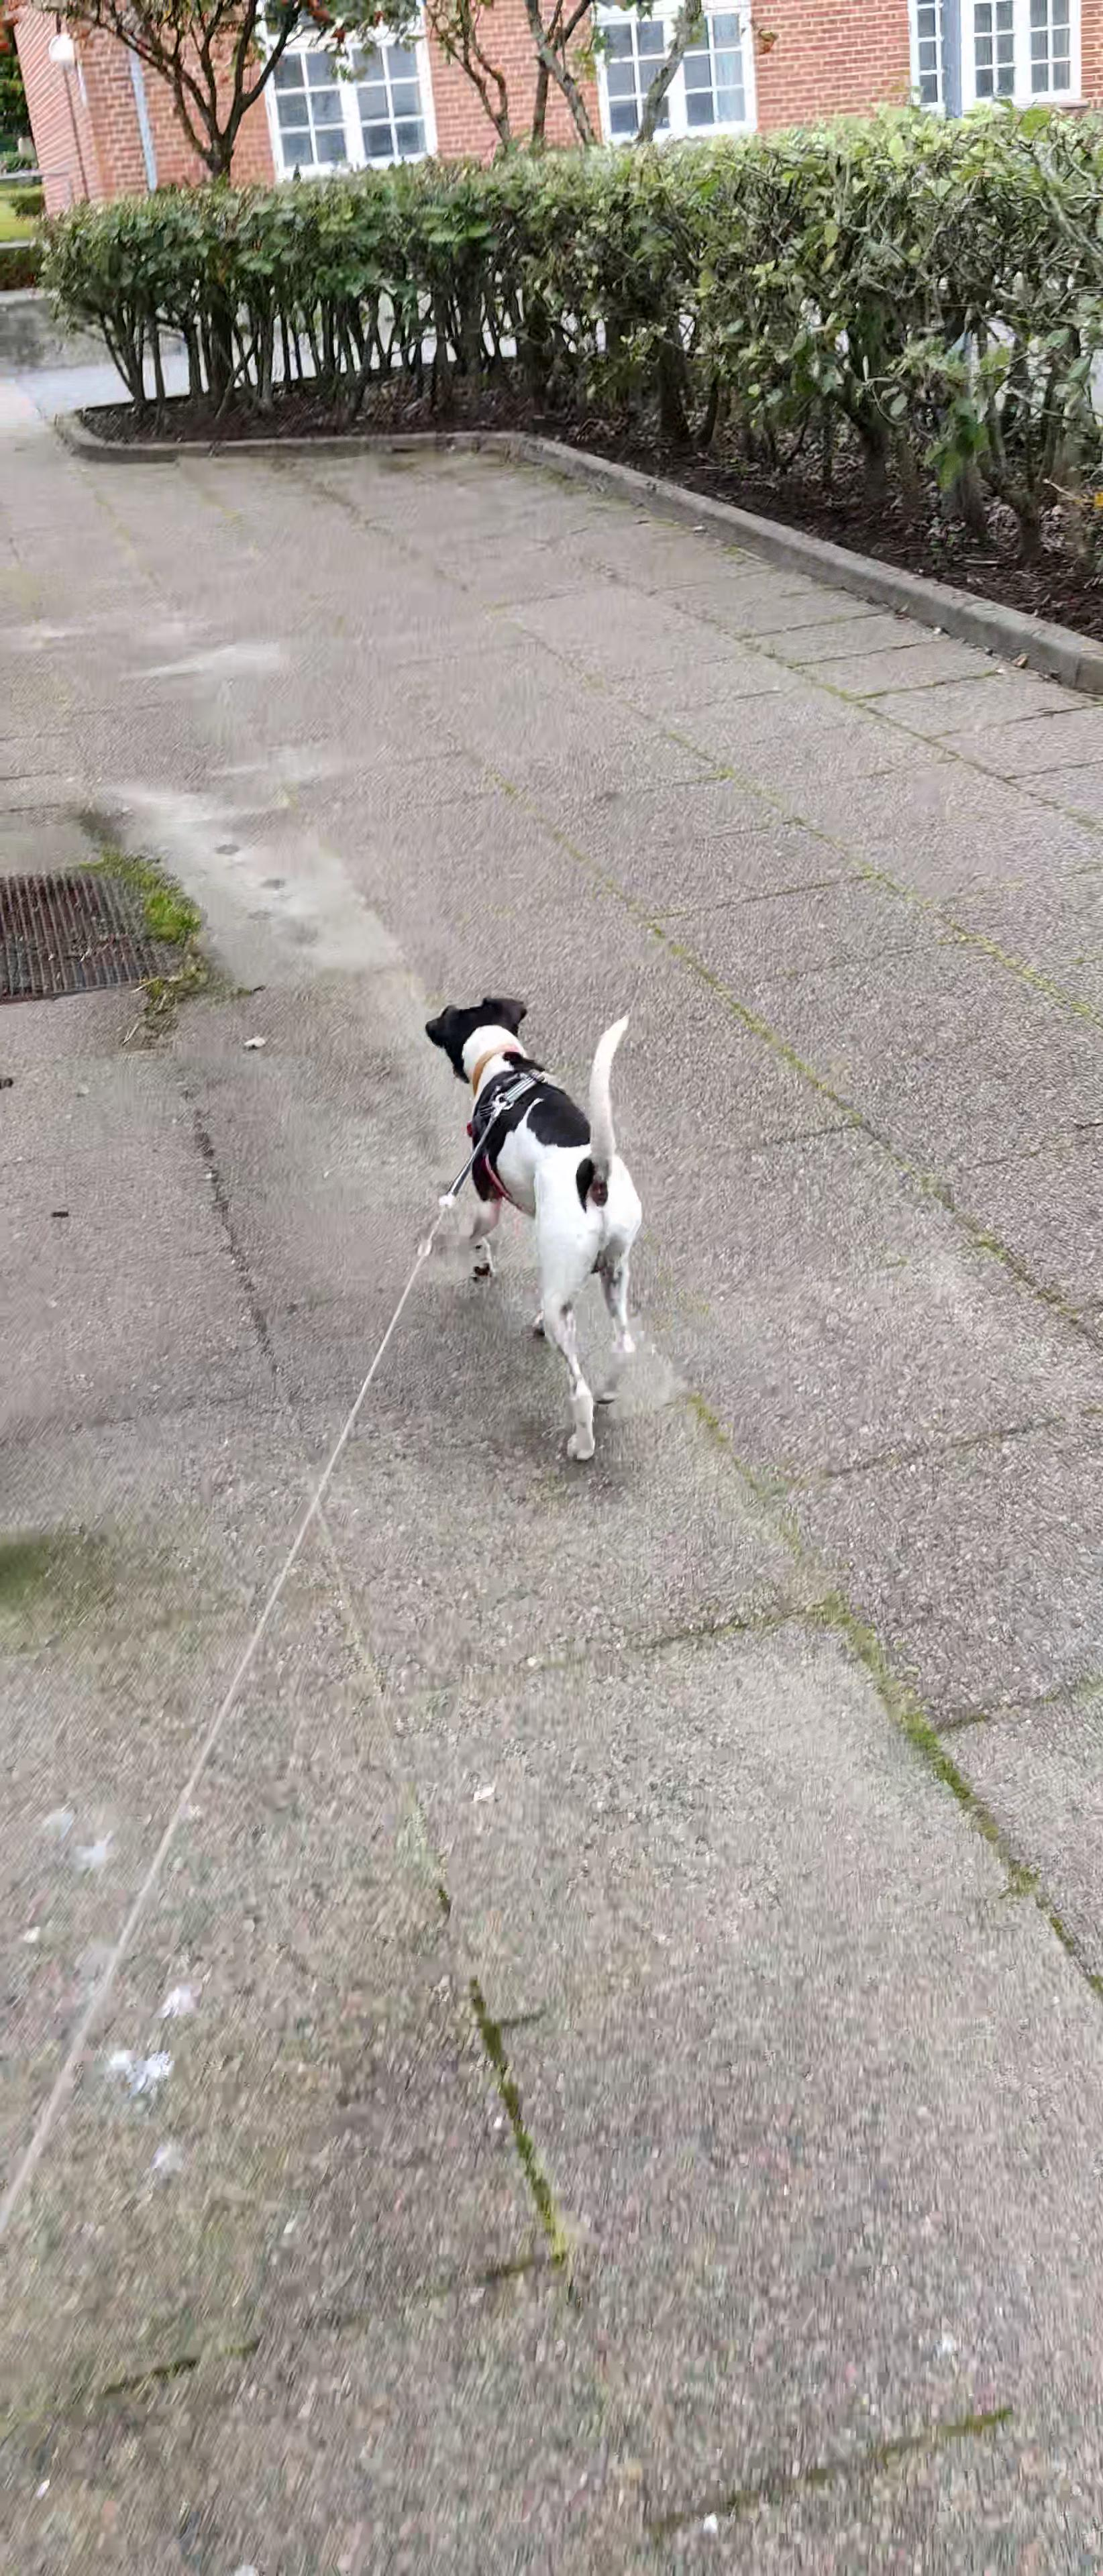Dog: (416, 989, 661, 1470)
